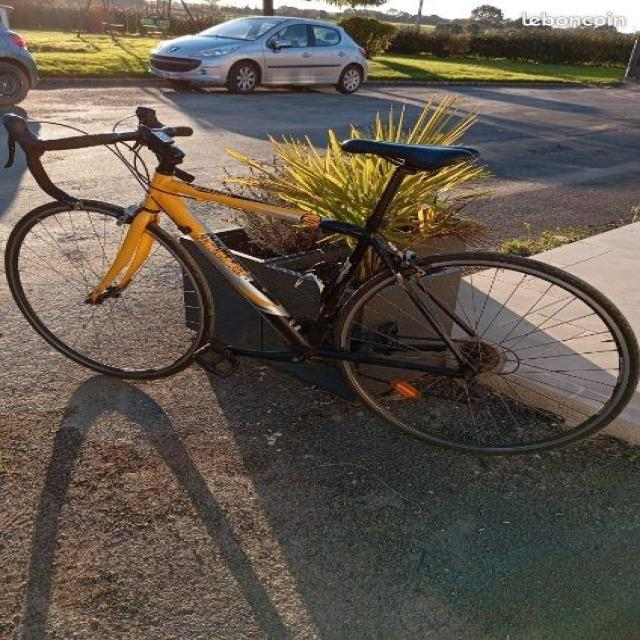Bike: (3, 105, 640, 452)
